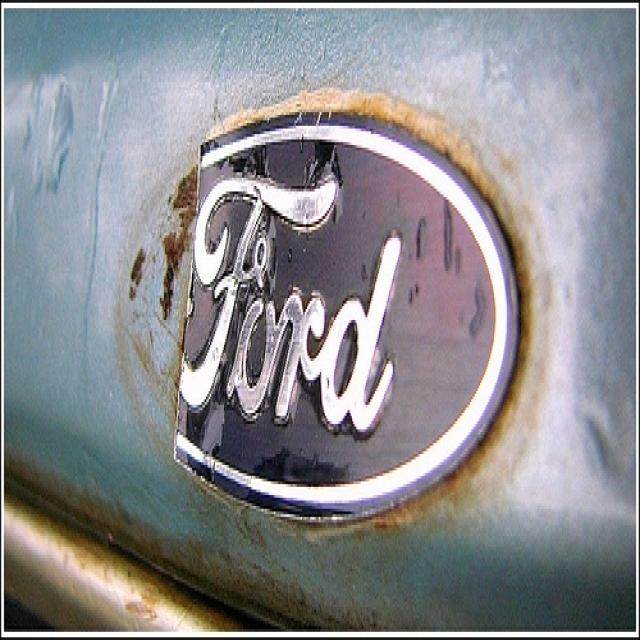ford: (161, 105, 526, 529)
